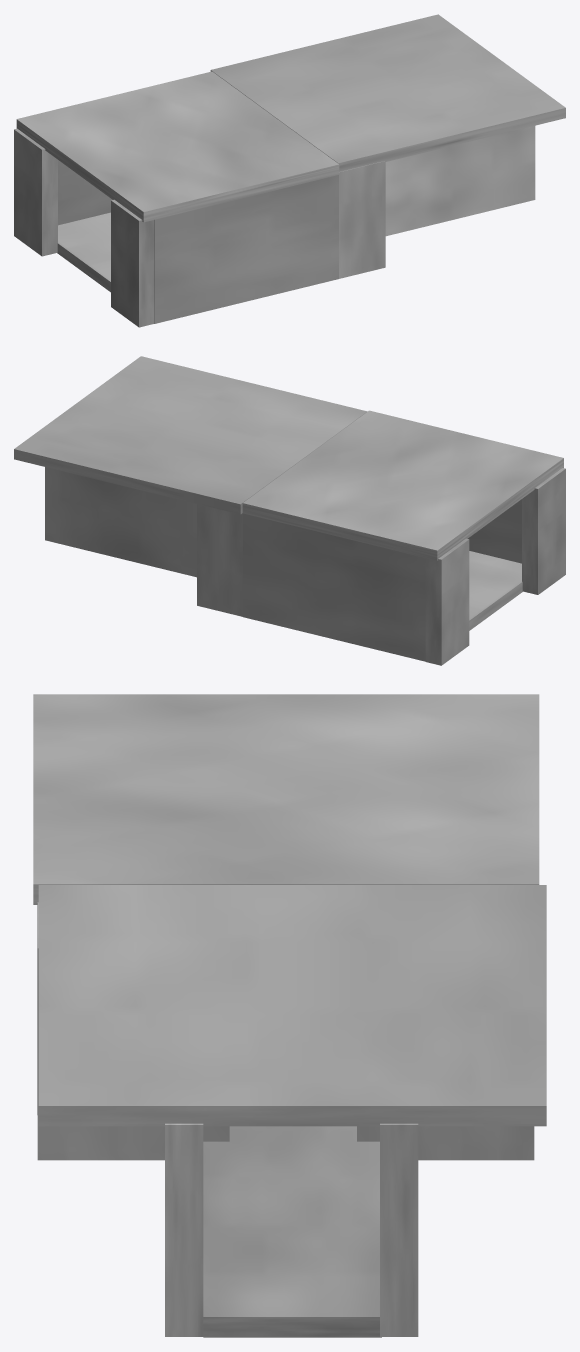
File: bossroom.fbx
3 views of the same model, one above another, from view 1: azimuth 30°, elevation 25°; view 2: azimuth 150°, elevation 25°; view 3: azimuth 270°, elevation 25° (orthographic). The views are drawn at different scales.
Parts seen in each view (by area): view 1: Cube.010, Cube.011, Cube.002, Cube.008, Cube.003, Cube.006, Cube.007, Cube, Cube.001; view 2: Cube.010, Cube.011, Cube.001, Cube.009, Cube.007, Cube.004, Cube.006, Cube, Cube.002; view 3: Cube.010, Cube.011, Cube.005, Cube.008, Cube.009, Cube.003, Cube.004.
Part boxes in pixels (x1,y1,x2,y2): Cube.010: (210,14,565,171); Cube.011: (16,71,339,222); Cube.002: (154,175,338,323); Cube.008: (385,125,535,236); Cube.003: (339,161,385,278); Cube.006: (111,199,154,327); Cube.007: (14,128,57,256); Cube: (57,212,110,292); Cube.001: (58,160,112,225); Cube.010: (14,356,367,514); Cube.011: (242,410,563,560); Cube.001: (243,513,425,661); Cube.009: (45,467,196,577); Cube.007: (425,538,469,665); Cube.004: (197,504,242,616); Cube.006: (522,468,565,594); Cube: (469,551,522,630); Cube.002: (468,499,521,563); Cube.010: (38,885,546,1126); Cube.011: (33,694,539,904); Cube.005: (203,1126,381,1337); Cube.008: (165,1123,203,1336); Cube.009: (380,1123,418,1336); Cube.003: (37,902,229,1160); Cube.004: (357,1126,534,1160).
Bounding box in the file's own units: 11573 × 3005 × 6039.
